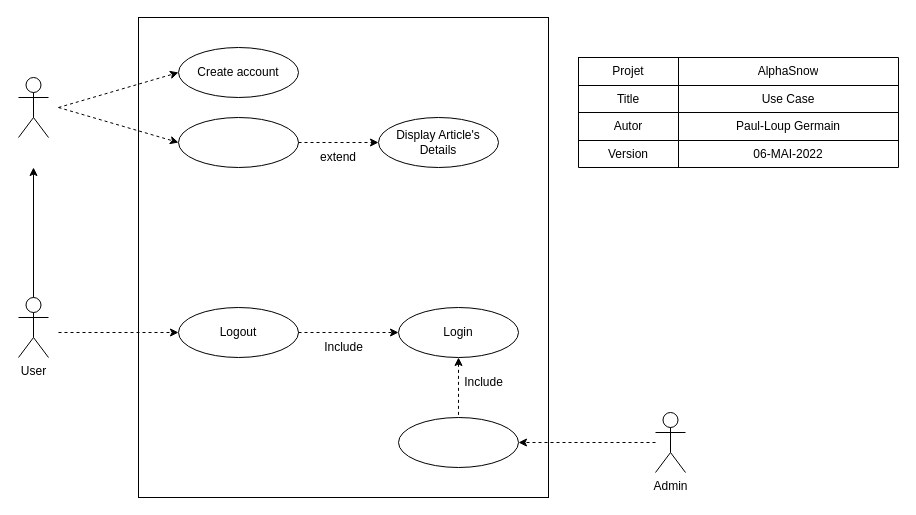
Some shapes in this 916 by 515 pixel diagram are drawn without their labels. Here are the shapes that lost their labels. From the top down, the centre of each, then its label:
the point at 33,107: Visitor
the point at 238,142: Browse Articles
the point at 458,442: Manage Articles' Catalog
